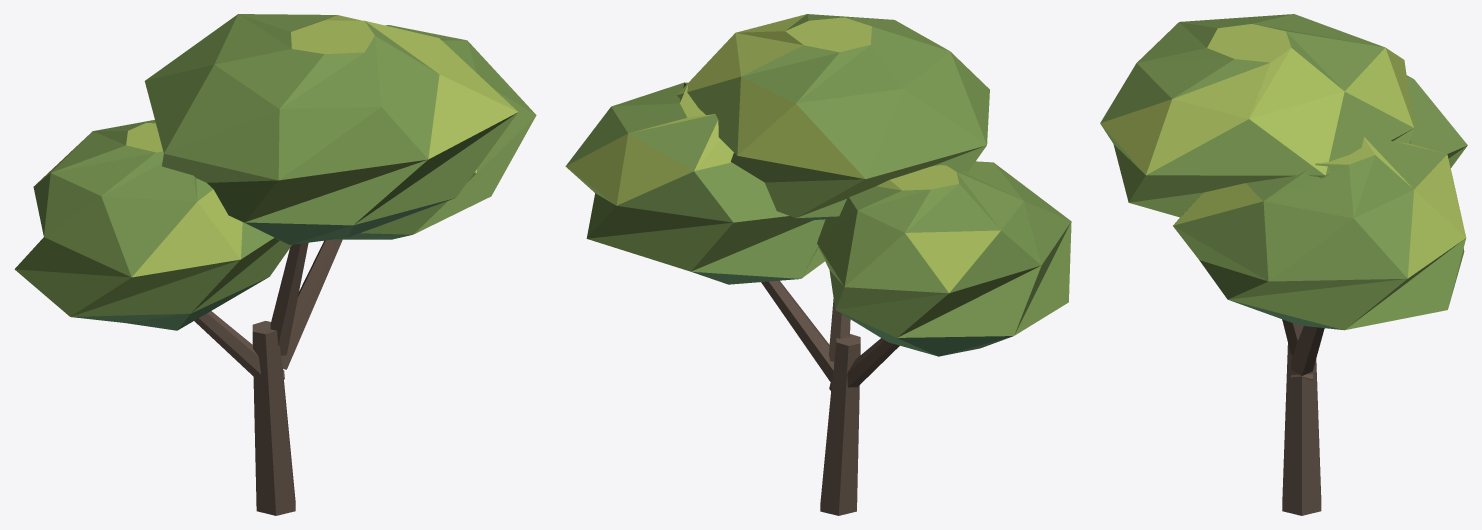
The model's file is TREE_03.glb.
3 views of the same model, side by side, from view 1: azimuth 30°, elevation 25°; view 2: azimuth 150°, elevation 25°; view 3: azimuth 270°, elevation 25° (orthographic). The views are drawn at different scales.
Parts seen in each view (by area): view 1: CIVRUM_GAME_TREE_03; view 2: CIVRUM_GAME_TREE_03; view 3: CIVRUM_GAME_TREE_03.
Part boxes in pixels (<box>): CIVRUM_GAME_TREE_03: <box>14,14,536,515</box>; CIVRUM_GAME_TREE_03: <box>565,14,1071,515</box>; CIVRUM_GAME_TREE_03: <box>1100,14,1467,515</box>.
Size of the model in its own units: 5.77 by 5.65 by 3.91.
